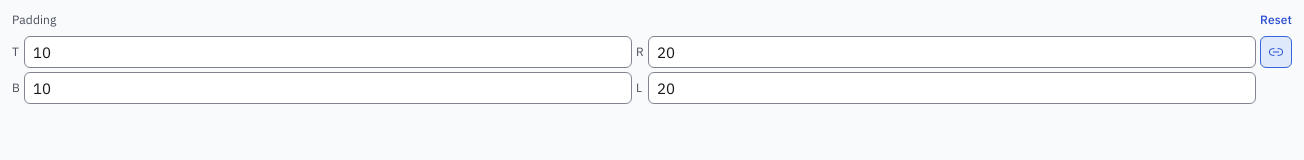
Test: Escape puts every side back
The width and height of the screenshot is (1304, 160).
Replace the text in the field named "Top Padding" with "99": (328, 52) [24, 36, 632, 68]
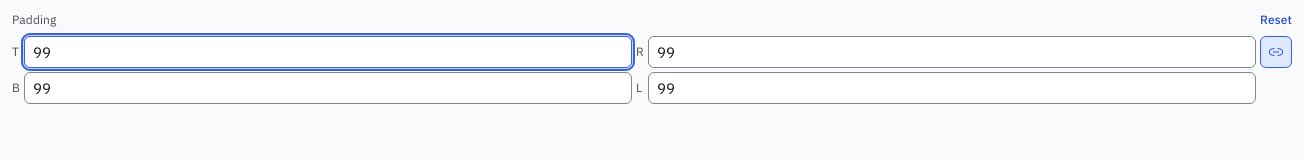
Press Escape
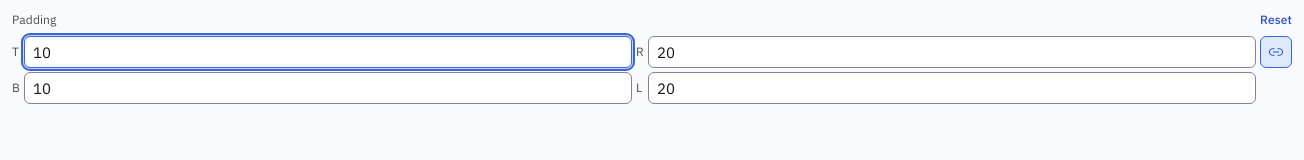
Now the field named "Top Padding" holds "10", box [24, 36, 632, 68]
